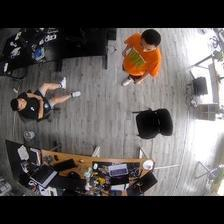normal: (10, 78, 82, 121), (117, 29, 163, 89)
